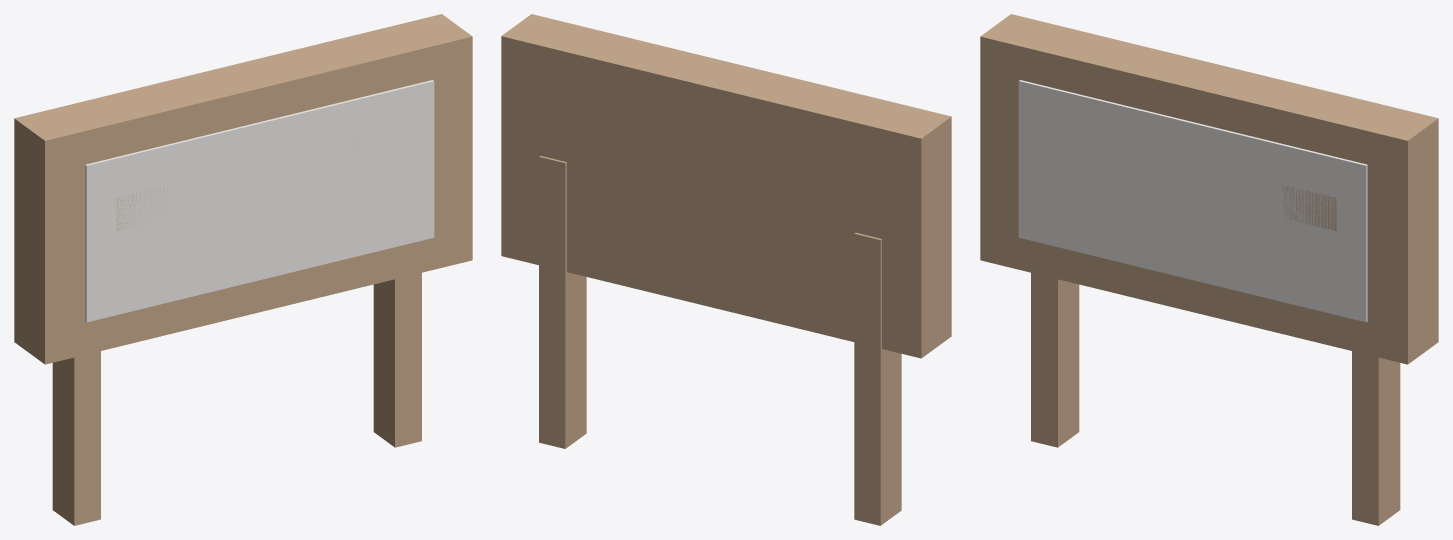
The model's file is house_sign.glb.
The picture shows the model from 3 angles, left to right: view 1: azimuth 30°, elevation 25°; view 2: azimuth 150°, elevation 25°; view 3: azimuth 330°, elevation 25°; orthographic projection.
Visible parts, largest first — view 1: HouseSign; view 2: HouseSign; view 3: HouseSign.
Boxes of the visible parts, bbox=[...] form: HouseSign: bbox=[14, 14, 472, 525]; HouseSign: bbox=[501, 14, 951, 525]; HouseSign: bbox=[980, 14, 1438, 525].
Size of the model in its own units: 0.8 by 0.72 by 0.11.
